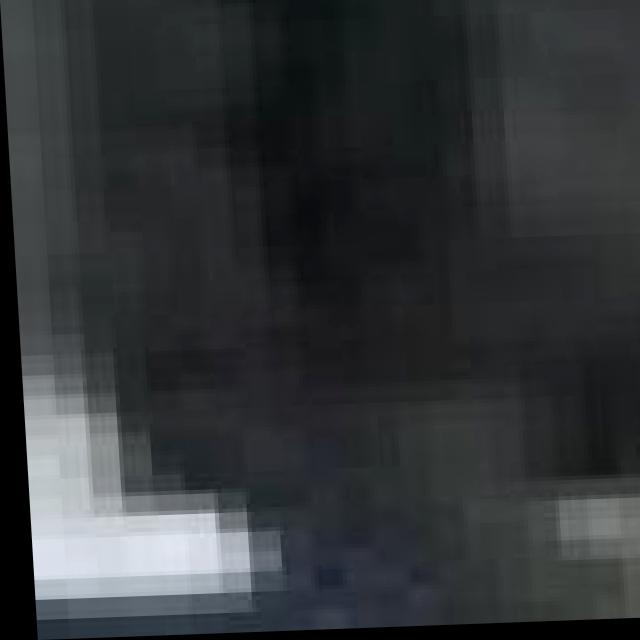diode: (28, 0, 640, 611)
